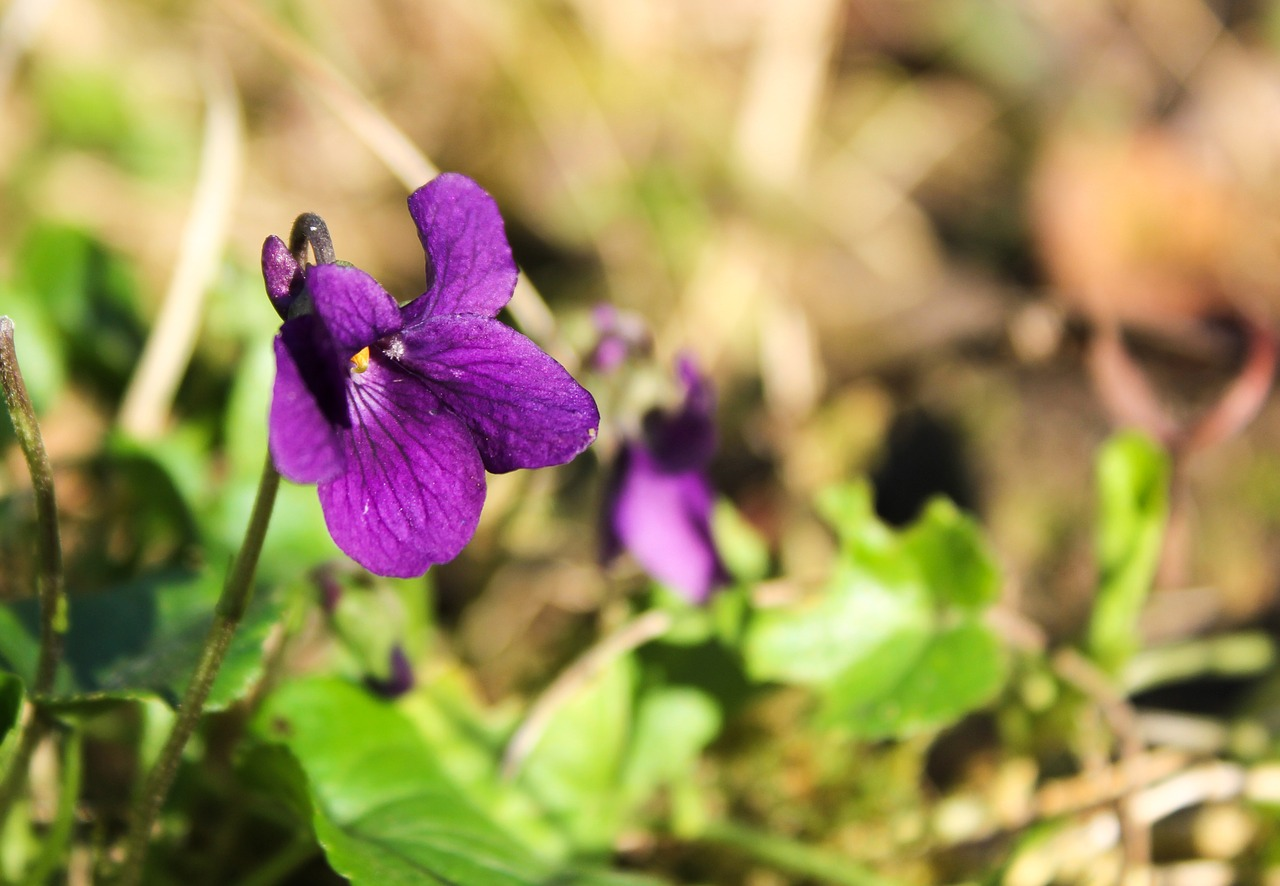violet: (220, 200, 622, 598)
